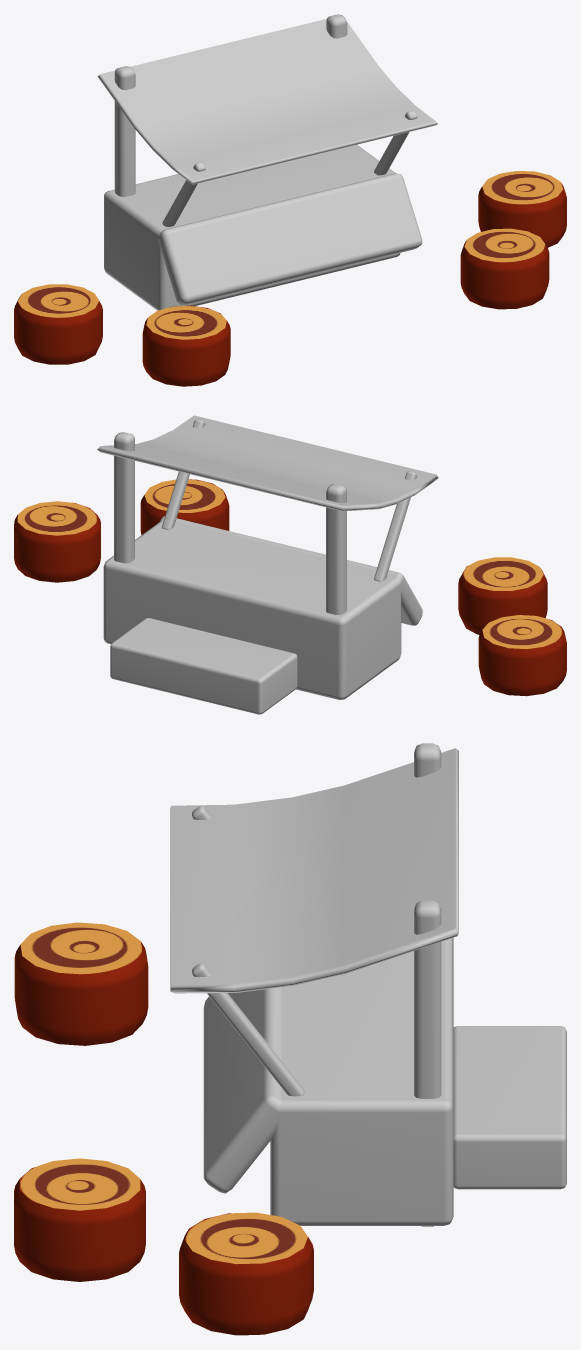
Rendered from Market.fbx.
3 renders of one model, top to bottom at view 1: azimuth 30°, elevation 25°; view 2: azimuth 150°, elevation 25°; view 3: azimuth 270°, elevation 25°, orthographic. The views are drawn at different scales.
Parts seen in each view (by area): view 1: Structure5, Structure4, Structure1, Logs4, Logs3, Logs2, Logs5, Structure3, Structure7, Structure8; view 2: Structure1, Structure5, Structure6, Logs2, Logs5, Logs3, Logs4, Structure3, Structure2, Structure4, Structure7, Structure8; view 3: Structure5, Structure1, Structure6, Logs3, Logs5, Logs4, Structure4, Structure2, Structure8, Structure3.
Boxes of the visible parts, x1=… form: Structure5: x1=97, y1=15, x2=437, y2=184; Structure4: x1=157, y1=173, x2=422, y2=305; Structure1: x1=104, y1=145, x2=400, y2=310; Logs4: x1=460, y1=228, x2=549, y2=309; Logs3: x1=142, y1=305, x2=230, y2=386; Logs2: x1=14, y1=284, x2=102, y2=364; Logs5: x1=478, y1=171, x2=566, y2=247; Structure3: x1=114, y1=66, x2=135, y2=196; Structure7: x1=162, y1=162, x2=205, y2=226; Structure8: x1=374, y1=110, x2=417, y2=175; Structure1: x1=103, y1=521, x2=401, y2=699; Structure5: x1=97, y1=415, x2=438, y2=511; Structure6: x1=110, y1=618, x2=297, y2=714; Logs2: x1=478, y1=615, x2=566, y2=696; Logs5: x1=14, y1=501, x2=100, y2=582; Logs3: x1=458, y1=557, x2=547, y2=634; Logs4: x1=140, y1=479, x2=229, y2=534; Structure3: x1=326, y1=483, x2=346, y2=615; Structure2: x1=114, y1=432, x2=134, y2=563; Structure4: x1=160, y1=516, x2=422, y2=625; Structure7: x1=374, y1=471, x2=417, y2=581; Structure8: x1=162, y1=419, x2=205, y2=529; Structure5: x1=170, y1=748, x2=458, y2=993; Structure1: x1=270, y1=937, x2=453, y2=1225; Structure6: x1=453, y1=1026, x2=566, y2=1189; Logs3: x1=14, y1=922, x2=148, y2=1045; Logs5: x1=179, y1=1212, x2=313, y2=1335; Logs4: x1=14, y1=1158, x2=145, y2=1281; Structure4: x1=203, y1=987, x2=281, y2=1193; Structure2: x1=414, y1=900, x2=441, y2=1226; Structure8: x1=192, y1=963, x2=304, y2=1096; Structure3: x1=414, y1=743, x2=441, y2=777.
Bounding box in the file's own units: 10.53 × 3.92 × 6.13.
